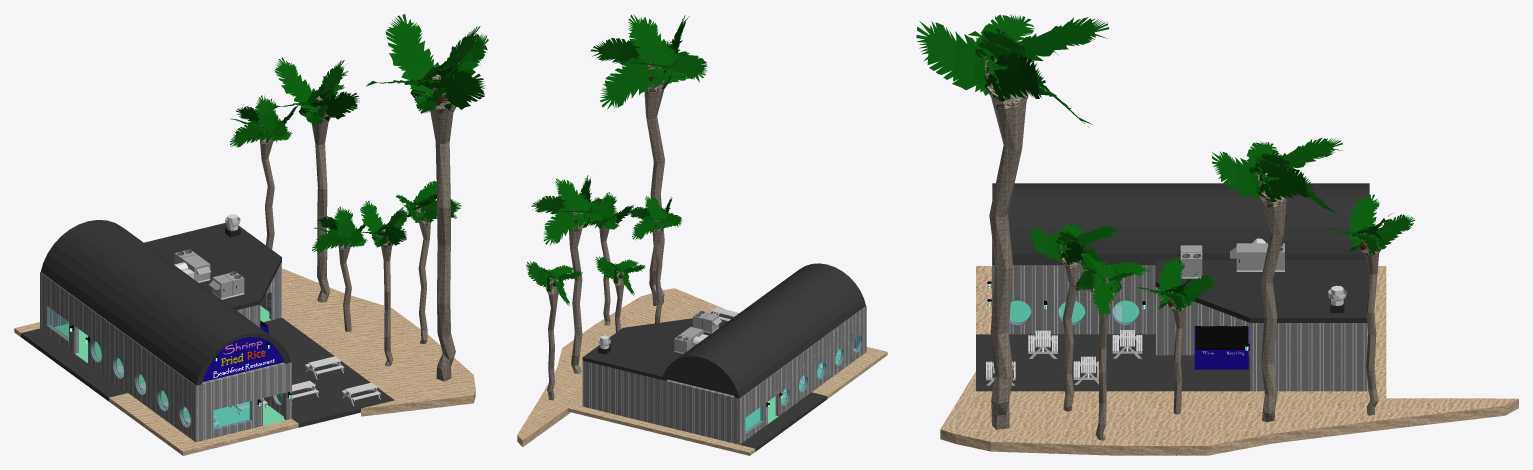
The model's file is Shrimp Fried Rice.glb.
The picture shows the model from 3 angles, left to right: view 1: azimuth 30°, elevation 25°; view 2: azimuth 150°, elevation 25°; view 3: azimuth 270°, elevation 25°; orthographic projection. The views are drawn at different scales.
Visible parts, largest first — view 1: Roof 1, Branches, Ext Walls, Floor, Ground, Trunks, Roof 2, Picnic Table, RTU, Rect Windows, Round Windows, Sign; view 2: Ext Walls, Roof 1, Branches, Trunks, Ground, Floor, Roof 2, RTU, Round Windows; view 3: Ground, Roof 1, Branches, Ext Walls, Floor, Trunks, Roof 2, Dumpster, Picnic Table, RTU, Round Windows.
Part boxes in pixels (x1,y1,x2,y2): Roof 1: [41, 220, 291, 385]; Branches: [230, 14, 488, 252]; Ext Walls: [40, 262, 291, 442]; Floor: [14, 306, 405, 455]; Ground: [282, 268, 475, 416]; Trunks: [259, 65, 456, 381]; Roof 2: [144, 223, 281, 310]; Picnic Table: [117, 356, 380, 426]; RTU: [174, 249, 244, 299]; Rect Windows: [47, 306, 251, 429]; Round Windows: [91, 341, 282, 427]; Sign: [213, 341, 274, 377]; Ext Walls: [582, 306, 866, 444]; Roof 1: [663, 263, 865, 398]; Branches: [526, 14, 707, 306]; Trunks: [545, 62, 670, 400]; Ground: [517, 288, 725, 446]; Floor: [568, 307, 887, 455]; Roof 2: [582, 318, 726, 380]; RTU: [674, 311, 721, 353]; Round Windows: [781, 335, 861, 405]; Ground: [940, 371, 1518, 455]; Roof 1: [992, 183, 1369, 265]; Branches: [916, 14, 1414, 318]; Ext Walls: [992, 238, 1368, 391]; Floor: [976, 266, 1386, 398]; Trunks: [983, 56, 1381, 455]; Roof 2: [1155, 260, 1369, 322]; Dumpster: [1194, 326, 1248, 369]; Picnic Table: [986, 305, 1142, 385]; RTU: [1179, 243, 1284, 278]; Round Windows: [1009, 301, 1138, 324].
Size of what is drawn, in the model's own units: 26.53 by 29.9 by 34.03.
48 materials, 4 textured.
